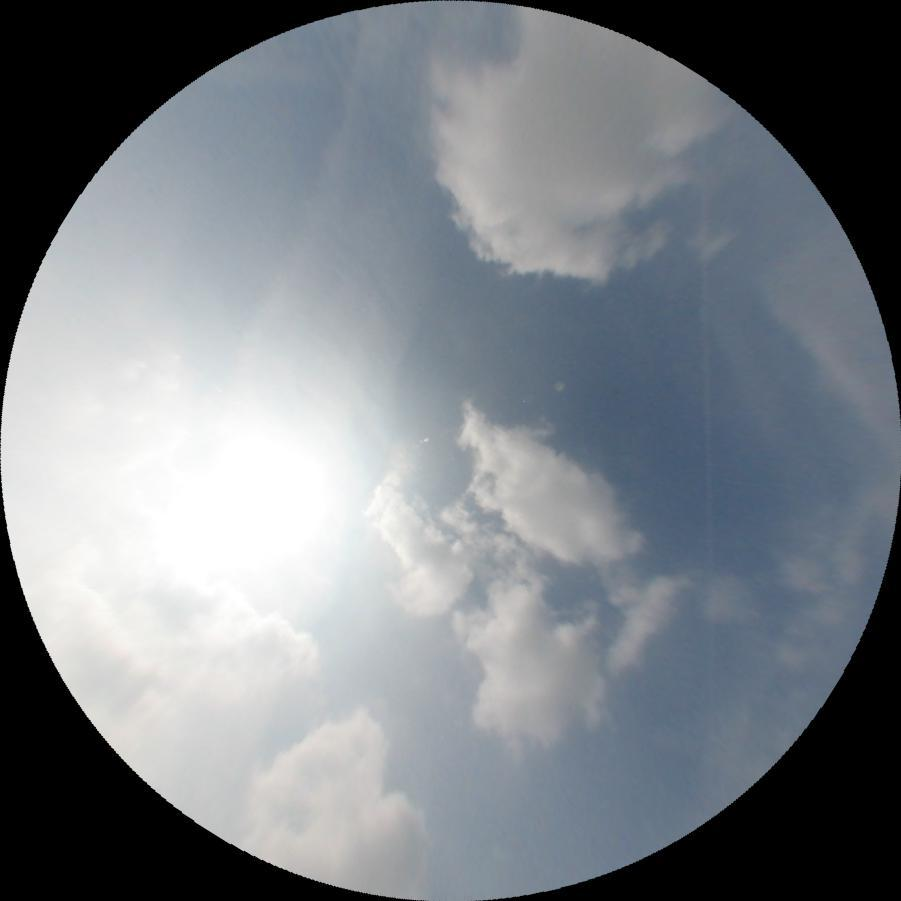contrail young: (700, 136, 716, 723)
sun: (139, 403, 381, 640)
